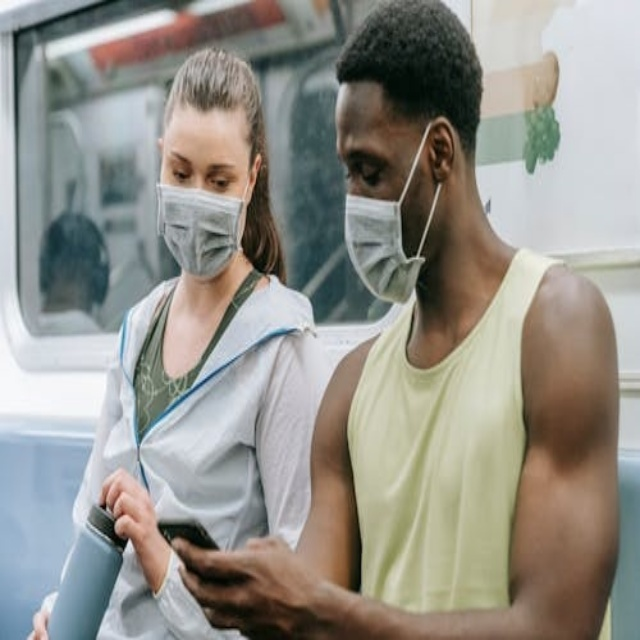Mascara: (345, 124, 436, 302), (157, 164, 249, 279)
Sin_gafas: (334, 131, 407, 196), (163, 142, 242, 192)
Sin_guantes: (169, 536, 306, 639), (106, 466, 174, 595)
